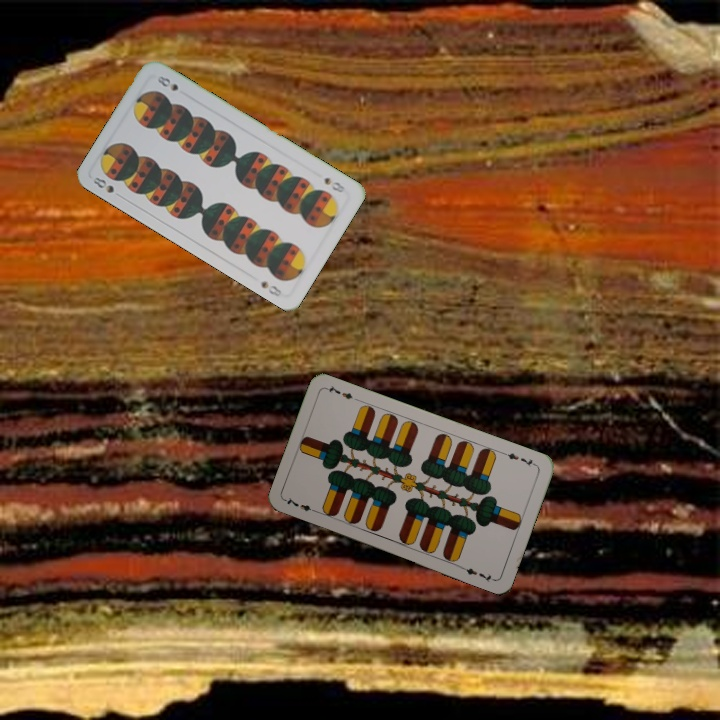E7: (282, 493, 321, 516), (500, 448, 539, 469)
S8: (89, 173, 126, 201), (320, 173, 348, 195)
